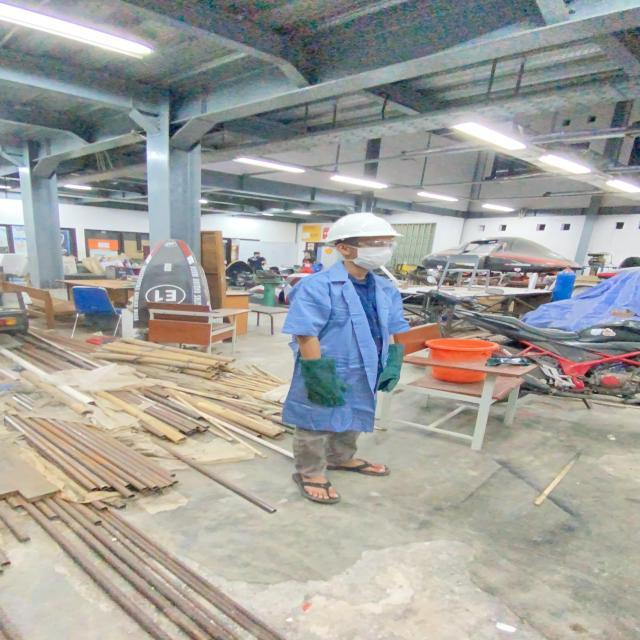glasses: (346, 238, 401, 252)
